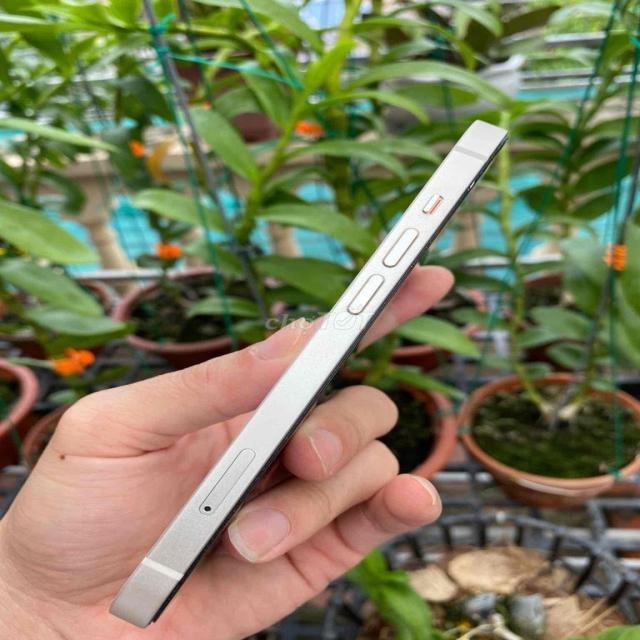gen_12_13: (103, 113, 531, 627)
